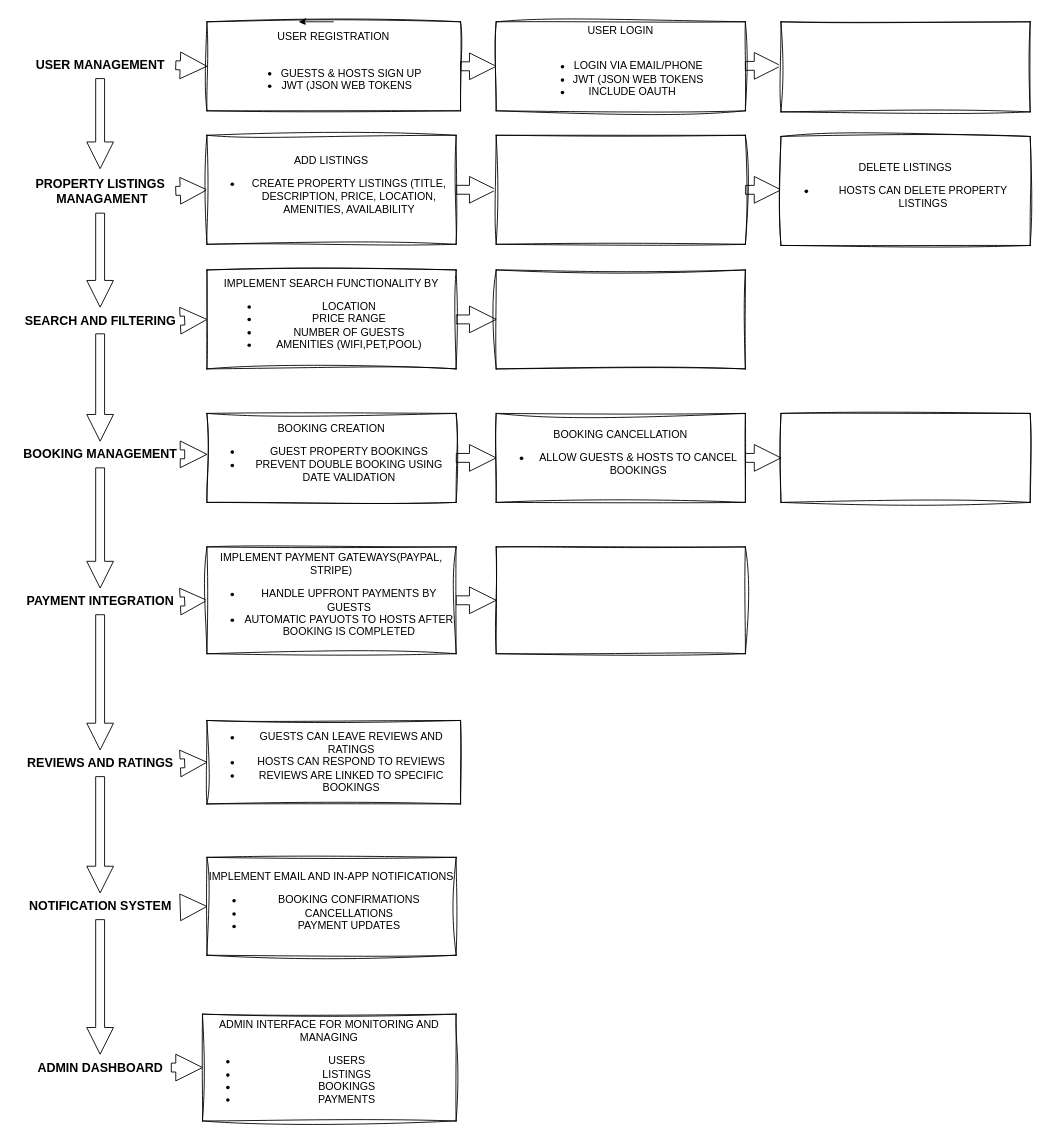
Image size: 1046x1137. Some labels were removed from this diagram. Here are the shapes that lost their labels. From the top down, the centre of each, then its label:
[905,66]: PROFILE MANAGEMENT UPDATE USER PROFILE( PROFILE PHOTOS, CONTACT INFO)
[620,189]: EDIT LISTINGS HOSTS CAN UPDATE PROPERTY LISTINGS
[620,319]: INCLUDE OAGINATION FOR LARGE DATASETS
[905,457]: BOOKING STATUS TRACK BOOKING STATUS (PENDING, CONFIRMED, CANCELED, COMPLETED)
[620,600]: INCLUDE SUPPORT FOR MULTIPLE CURRENCIES
